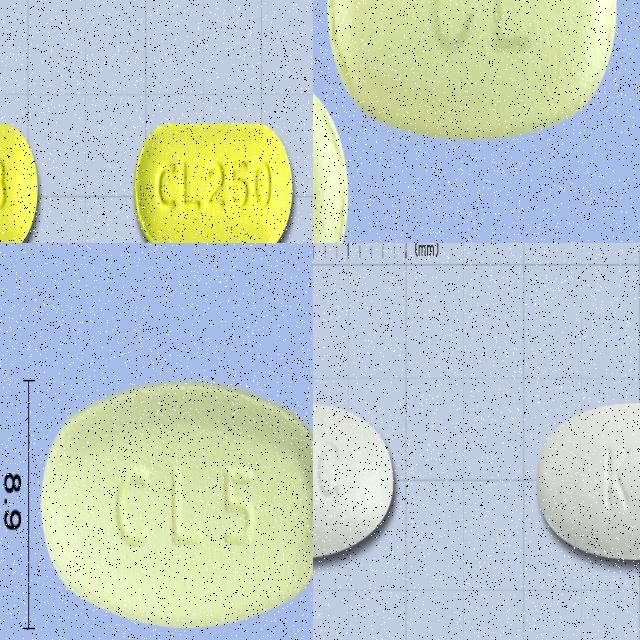Amocla 625mg: (534, 399, 640, 564), (313, 394, 396, 565)
Clamin: (325, 0, 620, 139)
Clathrocin: (40, 379, 313, 629)
Daewoong Clarithromycin: (134, 121, 293, 243), (0, 122, 39, 243)
